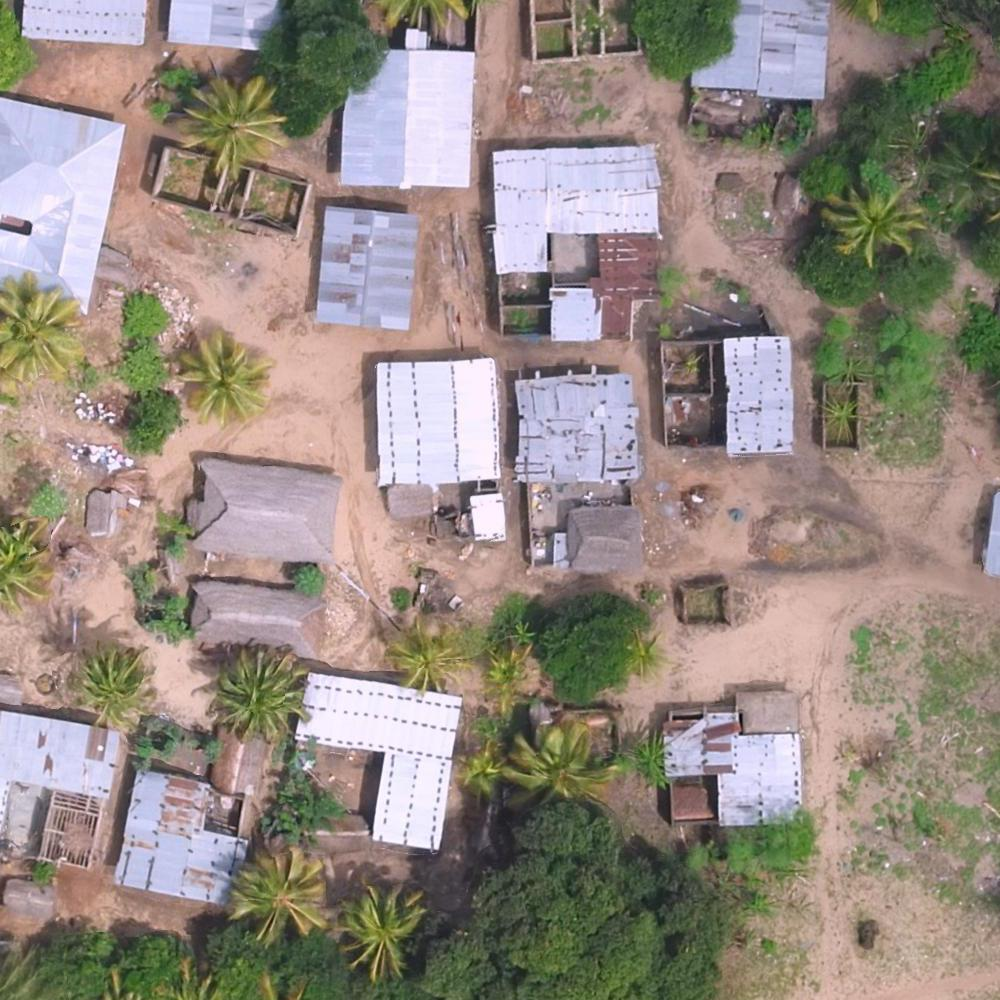Palm: (228, 851, 331, 947), (510, 715, 614, 810), (825, 178, 934, 263), (184, 78, 285, 166), (336, 886, 429, 973), (2, 277, 79, 380), (172, 333, 261, 421), (216, 656, 309, 735), (80, 646, 151, 729), (391, 626, 462, 696), (477, 646, 532, 705), (621, 631, 668, 673)
